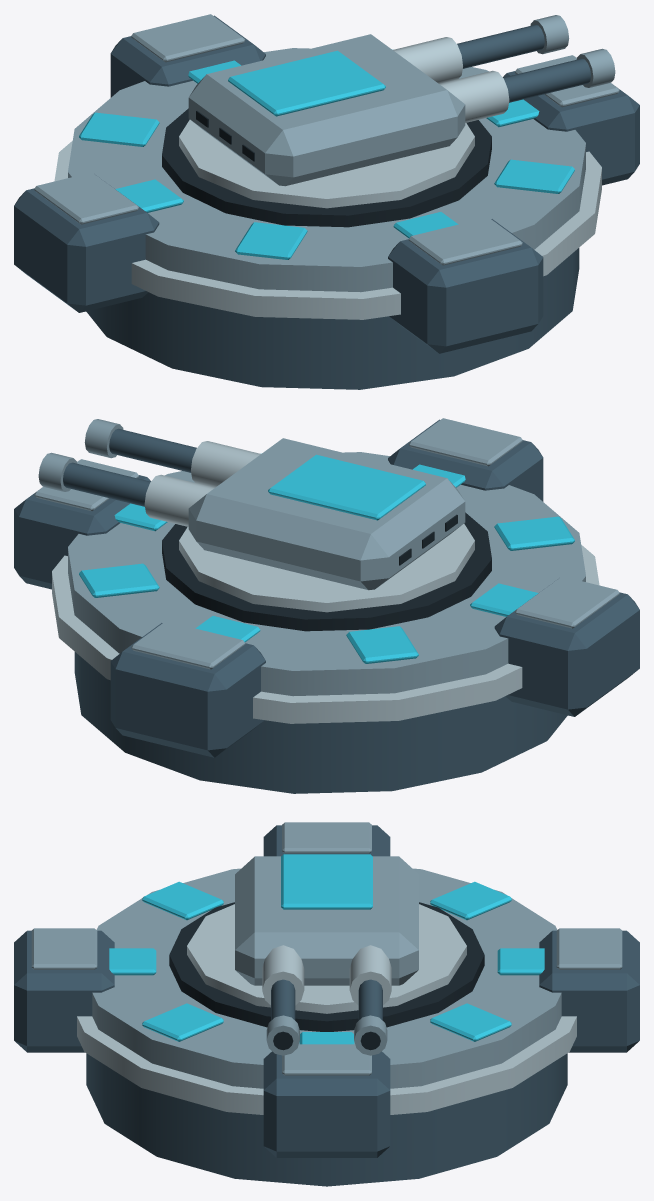
Rendered from platform.glb.
The picture shows the model from 3 angles, top to bottom: view 1: azimuth 30°, elevation 25°; view 2: azimuth 150°, elevation 25°; view 3: azimuth 270°, elevation 25°; orthographic projection. The views are drawn at different scales.
Visible parts, largest first — view 1: Platform / cardinal roof, Platform / cannon barrel, Platform / cannon sleeve, Platform / ring faction tile, Platform / bore; view 2: Platform / cardinal roof, Platform / cannon barrel, Platform / cannon sleeve, Platform / ring faction tile, Platform / bore; view 3: Platform / cardinal roof, Platform / cannon barrel, Platform / cannon sleeve, Platform / ring faction tile, Platform / bore.
Boxes of the visible parts, x1,y1,x2,y2 form: Platform / cardinal roof: (34,14,619,292); Platform / cannon barrel: (14,15,639,389); Platform / cannon sleeve: (54,37,601,319); Platform / ring faction tile: (79,49,574,259); Platform / bore: (162,108,491,227); Platform / cardinal roof: (34,418,619,696); Platform / cannon barrel: (14,419,639,793); Platform / cannon sleeve: (52,441,599,723); Platform / ring faction tile: (79,453,574,663); Platform / bore: (162,512,491,631); Platform / cardinal roof: (31,822,622,1088); Platform / cannon barrel: (14,825,639,1186); Platform / cannon sleeve: (77,904,576,1114); Platform / ring faction tile: (109,854,544,1044); Platform / bore: (169,902,484,1050).
Size of the model in its own units: 14.3 by 5.31 by 14.3.
